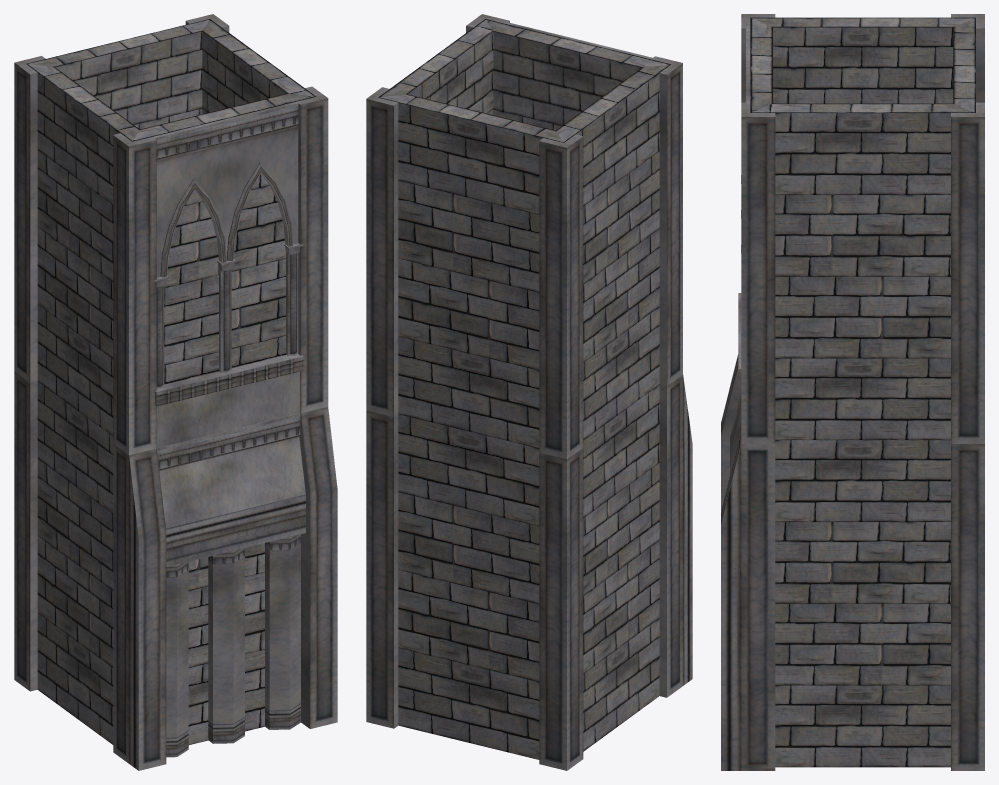
Rendered from tower_base_01.glb.
3 renders of one model, left to right at view 1: azimuth 30°, elevation 25°; view 2: azimuth 150°, elevation 25°; view 3: azimuth 270°, elevation 25°, orthographic. The views are drawn at different scales.
Visible parts, largest first — view 1: tower_base_01; view 2: tower_base_01; view 3: tower_base_01.
Boxes of the visible parts, left/top/right/bottom form: tower_base_01: left=14, top=14, right=337, bottom=770; tower_base_01: left=366, top=14, right=692, bottom=770; tower_base_01: left=721, top=14, right=984, bottom=770.
Bounding box in the file's own units: 10.8 × 32 × 11.7.
1 material, 1 textured.
